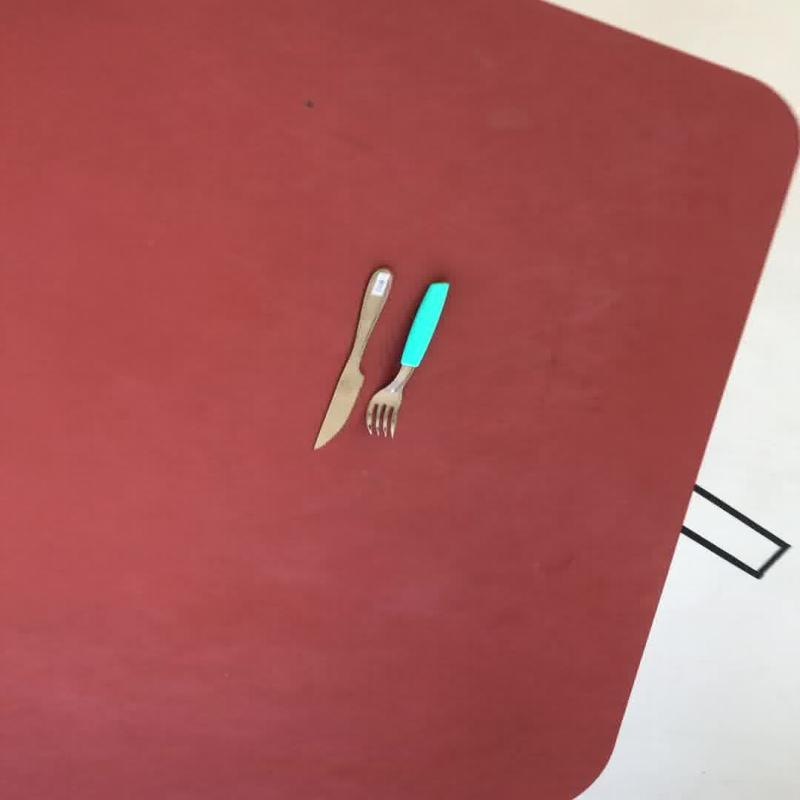fork: (363, 280, 449, 438)
knife: (311, 266, 393, 450)
